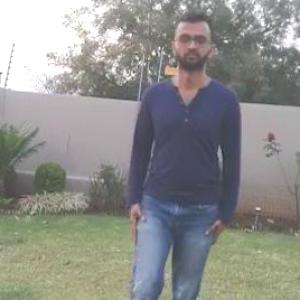follow: (127, 22, 236, 299)
